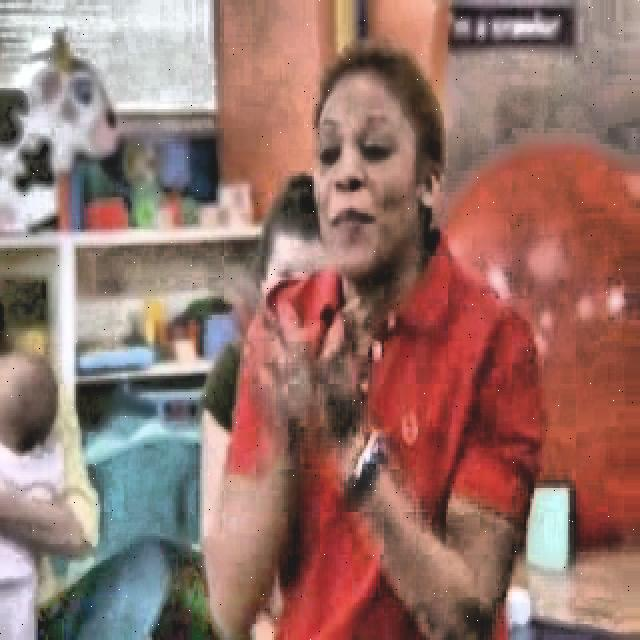F: (223, 47, 506, 640)
